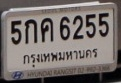num5: (9, 19, 23, 46)
txt01: (23, 18, 39, 45)
txt03: (39, 16, 55, 44)
